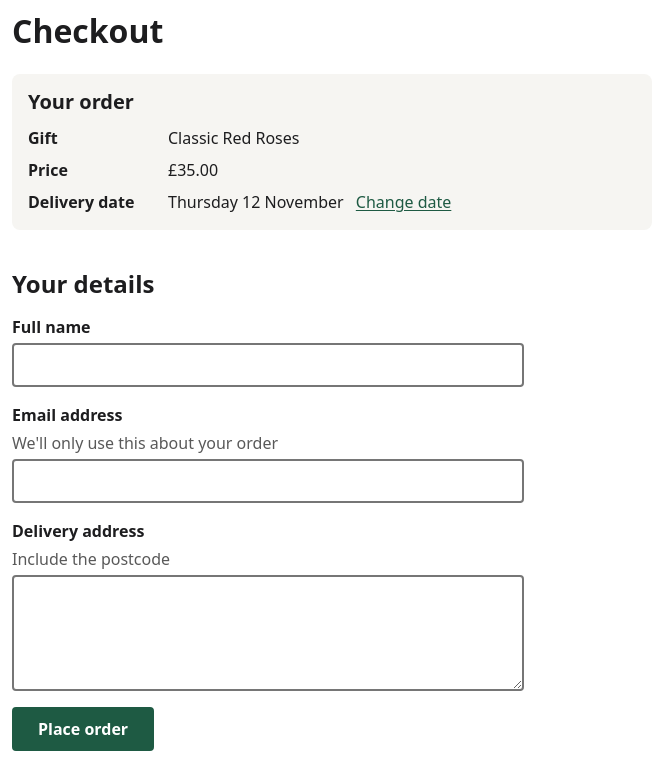
Test: CheckoutPageComponent › placing the order › offers to try again after any other failure
Type "Ada Lovelace" into the field labelled "Full name" at (268, 365), box [12,343,524,387]
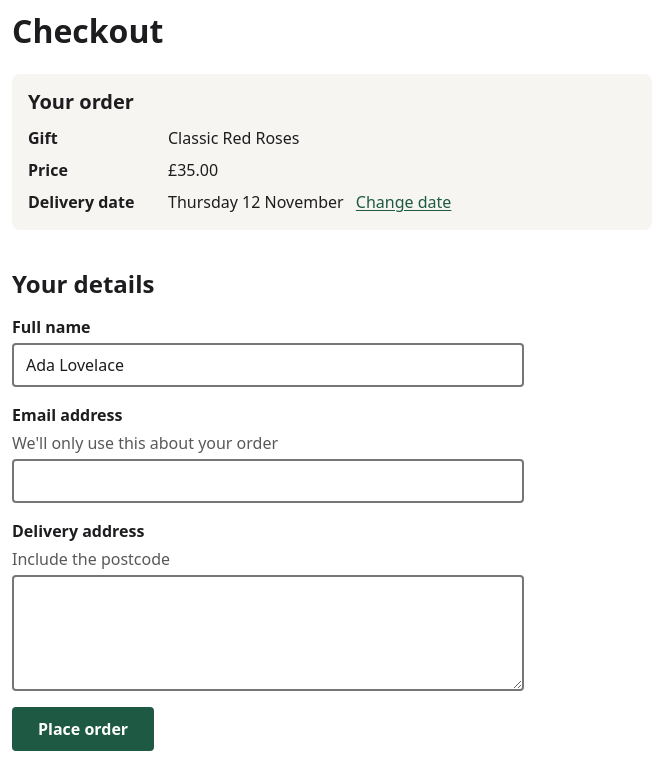
Type "ada@example.com" into the field labelled "Email address" at (268, 481), box [12,459,524,503]
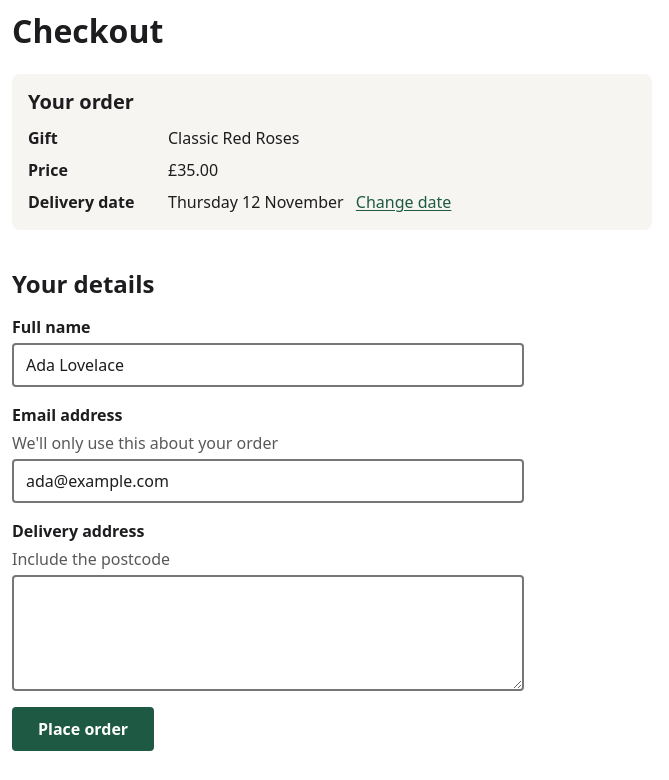
Type "1 Test Street, London N1 1AA" into the text box labelled "Delivery address" at (268, 633), box [12,575,524,691]
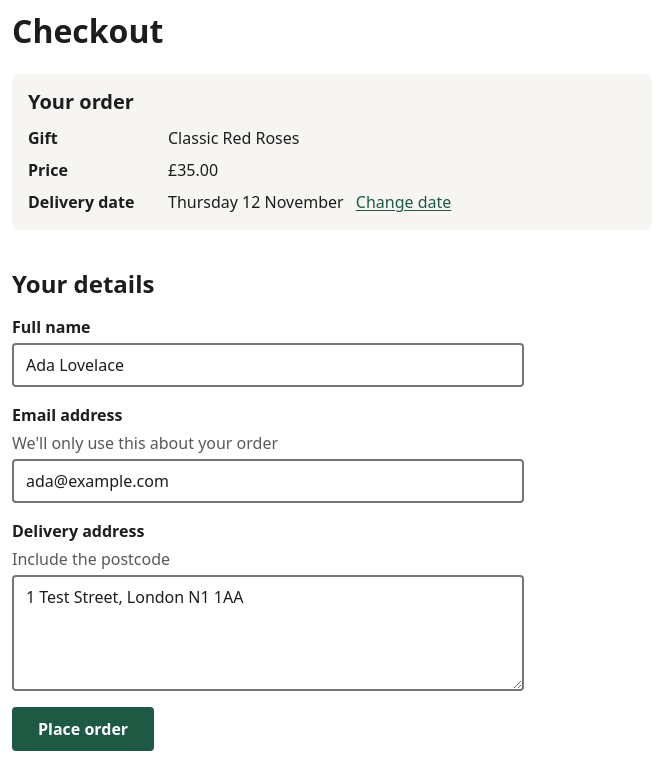
Click the submit button at (83, 729), box [12,707,154,751]
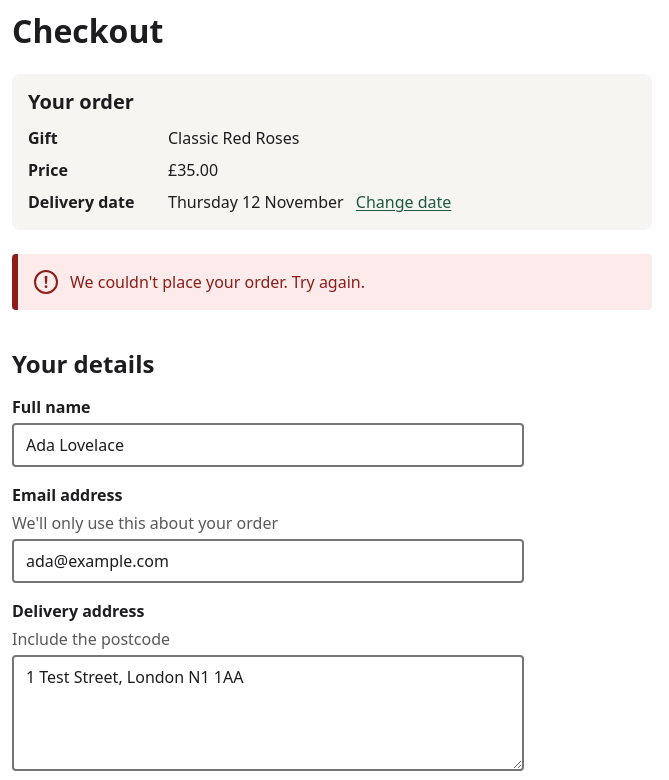
Expected: the text "We couldn't place your order. Try again." is shown, [70,270,365,294]
